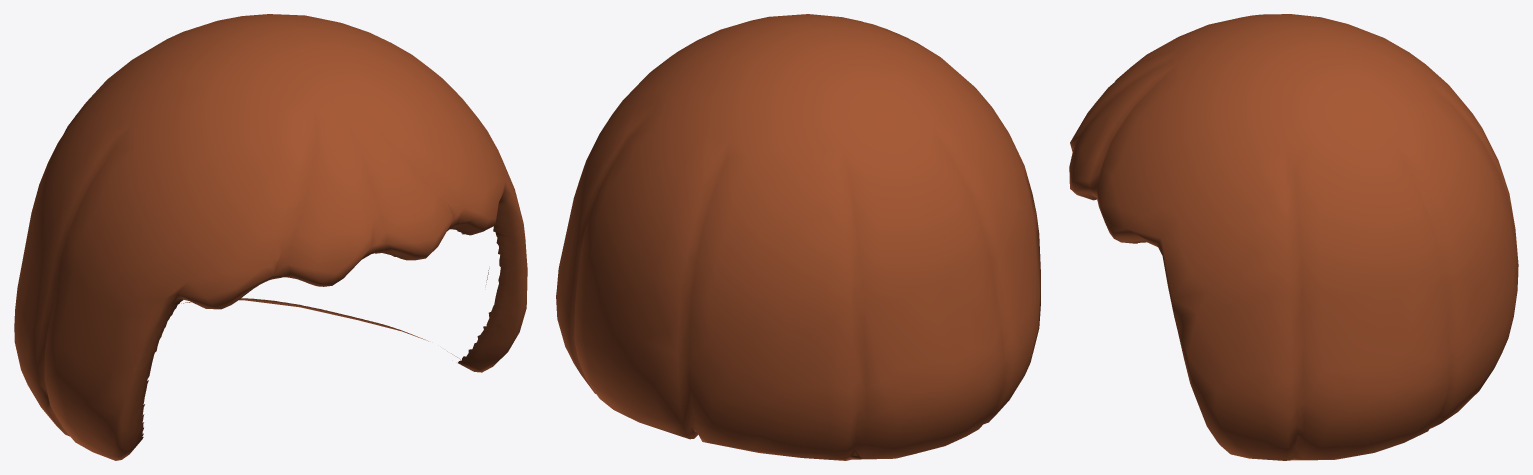
Rendered from hair_bob.glb.
The picture shows the model from 3 angles, left to right: view 1: azimuth 30°, elevation 25°; view 2: azimuth 150°, elevation 25°; view 3: azimuth 270°, elevation 25°; orthographic projection. The views are drawn at different scales.
Visible parts, largest first — view 1: hair_bob; view 2: hair_bob; view 3: hair_bob.
Boxes of the visible parts, <box> form: hair_bob: <box>14,14,527,460</box>; hair_bob: <box>556,14,1040,460</box>; hair_bob: <box>1069,14,1518,460</box>.
Size of the model in its own units: 0.6277 by 0.4837 by 0.5776.
1 material, 1 textured.
